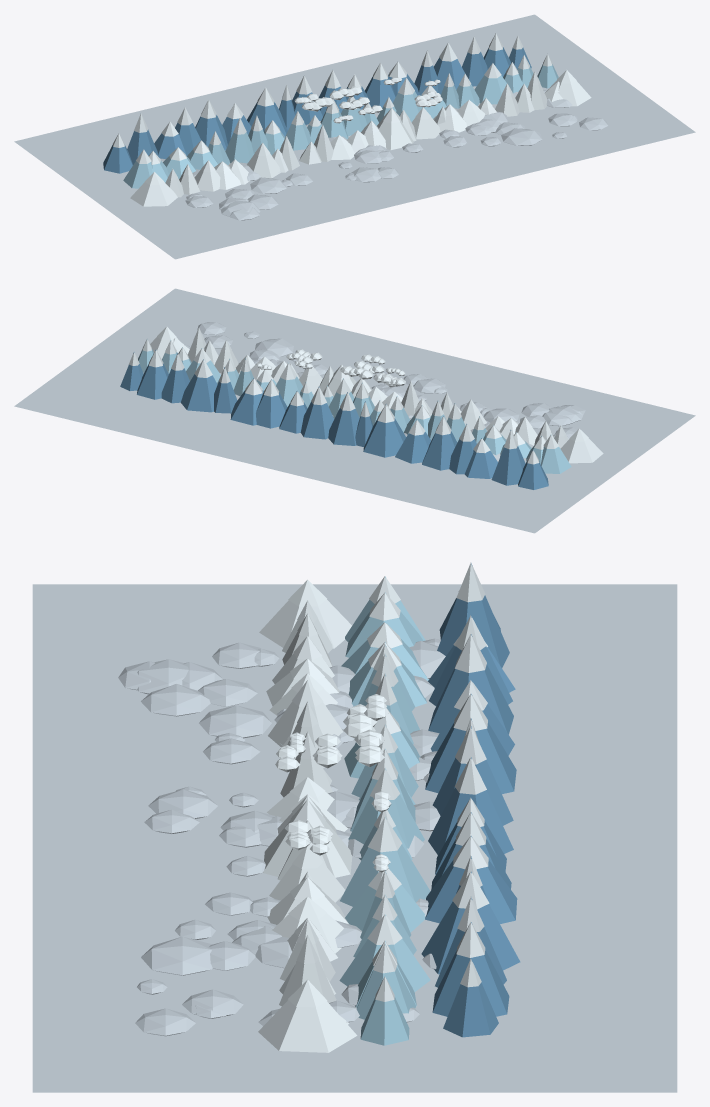
The model's file is backdrop-2.glb.
3 renders of one model, top to bottom at view 1: azimuth 30°, elevation 25°; view 2: azimuth 150°, elevation 25°; view 3: azimuth 270°, elevation 25°, orthographic. The views are drawn at different scales.
Visible parts, largest first — view 1: Model; view 2: Model; view 3: Model.
Boxes of the visible parts, x1,y1,x2,y2 form: Model: (14,14,695,259); Model: (14,288,695,533); Model: (32,562,677,1092).
Size of the model in its own units: 280 by 27.26 by 150.
Materials: 1 (1 with a texture image).
